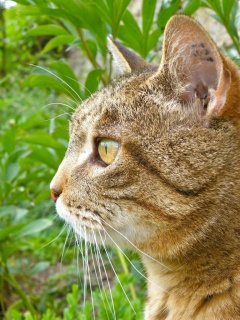Cat: (30, 13, 239, 319)
